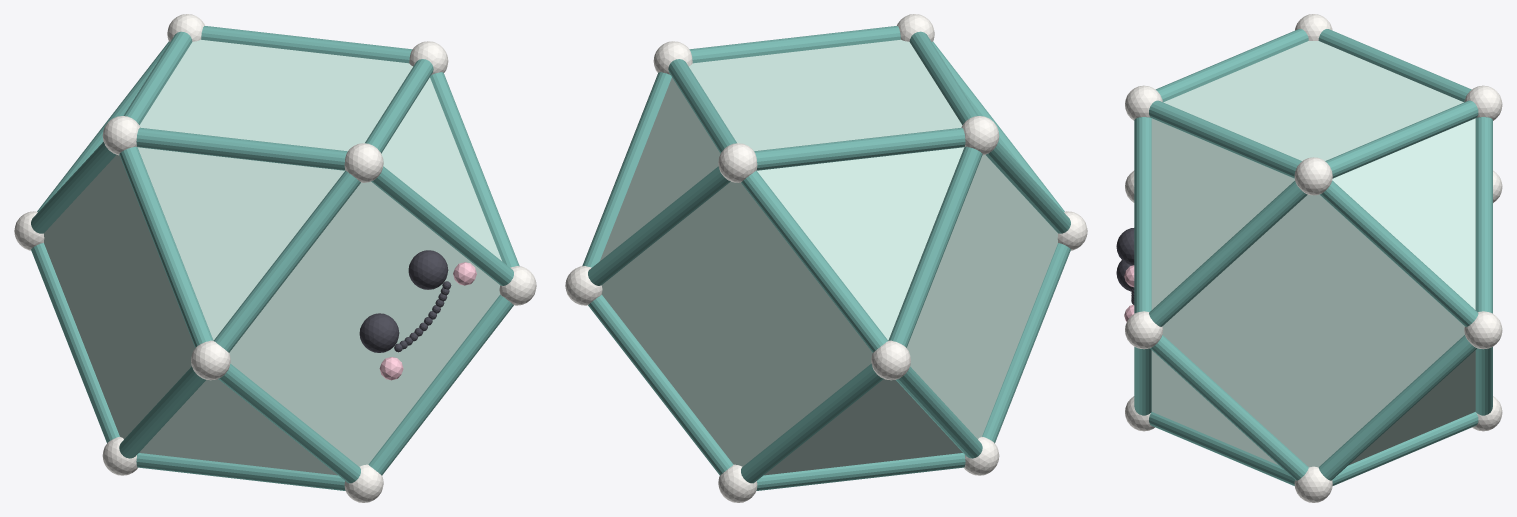
File: 14f_cuboctahedron_cute_smile_facets_edges_vertices.glb
The picture shows the model from 3 angles, left to right: view 1: azimuth 30°, elevation 25°; view 2: azimuth 150°, elevation 25°; view 3: azimuth 270°, elevation 25°; orthographic projection. The views are drawn at different scales.
Parts seen in each view (by area): view 1: CuboctaBody, CuboctaEdges, CuboctaVertices, CuteFaceFeatures, CuteCheeks; view 2: CuboctaBody, CuboctaEdges, CuboctaVertices; view 3: CuboctaBody, CuboctaEdges, CuboctaVertices, CuteFaceFeatures.
Boxes of the visible parts, left/top/right/bottom form: CuboctaBody: left=44, top=39, right=501, bottom=475; CuboctaEdges: left=31, top=26, right=519, bottom=490; CuboctaVertices: left=14, top=14, right=536, bottom=502; CuteFaceFeatures: left=359, top=250, right=451, bottom=352; CuteCheeks: left=379, top=262, right=476, bottom=380; CuboctaBody: left=600, top=39, right=1057, bottom=475; CuboctaEdges: left=582, top=26, right=1070, bottom=490; CuboctaVertices: left=565, top=14, right=1087, bottom=502; CuboctaBody: left=1151, top=41, right=1475, bottom=467; CuboctaEdges: left=1134, top=29, right=1492, bottom=486; CuboctaVertices: left=1125, top=14, right=1502, bottom=502; CuteFaceFeatures: left=1116, top=228, right=1134, bottom=304.
Bounding box in the file's own units: 2.11 × 2.11 × 2.16.
